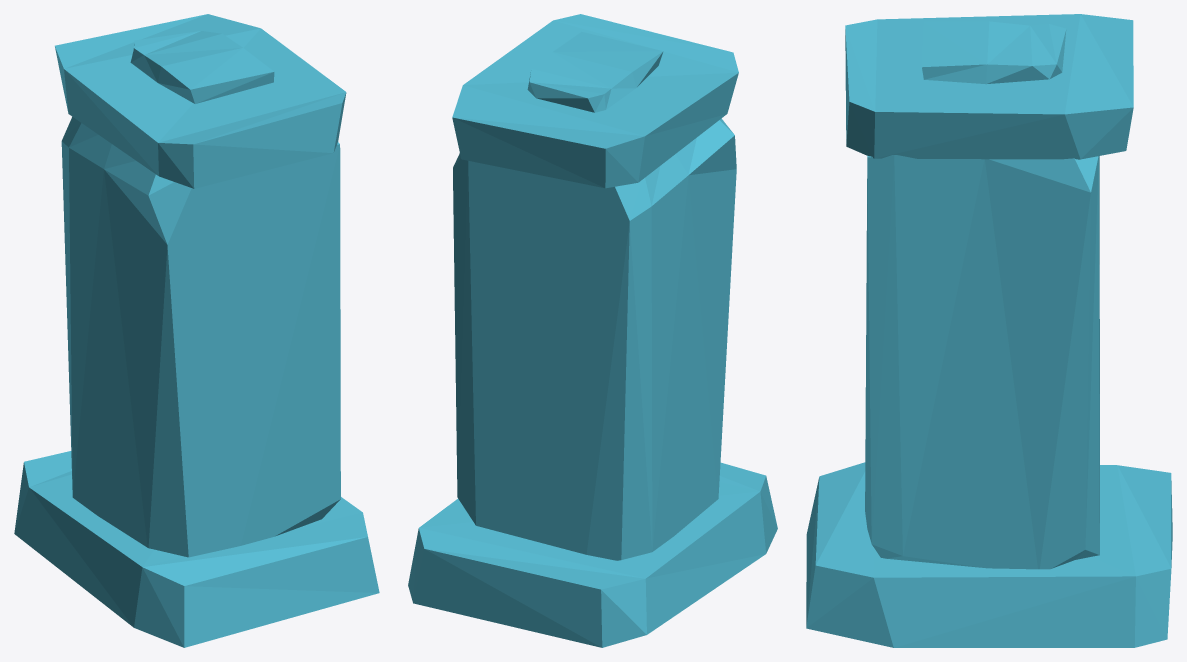
Rendered from big_brick_004.FBX.
3 views of the same model, side by side, from view 1: azimuth 30°, elevation 25°; view 2: azimuth 150°, elevation 25°; view 3: azimuth 270°, elevation 25° (orthographic). The views are drawn at different scales.
Visible parts, largest first — view 1: big_brick_004; view 2: big_brick_004; view 3: big_brick_004.
Part boxes in pixels (x1,y1,x2,y2): big_brick_004: (14, 14, 379, 647); big_brick_004: (408, 14, 777, 647); big_brick_004: (806, 14, 1172, 647).
Bounding box in the file's own units: 28.49 × 57.02 × 34.7.
